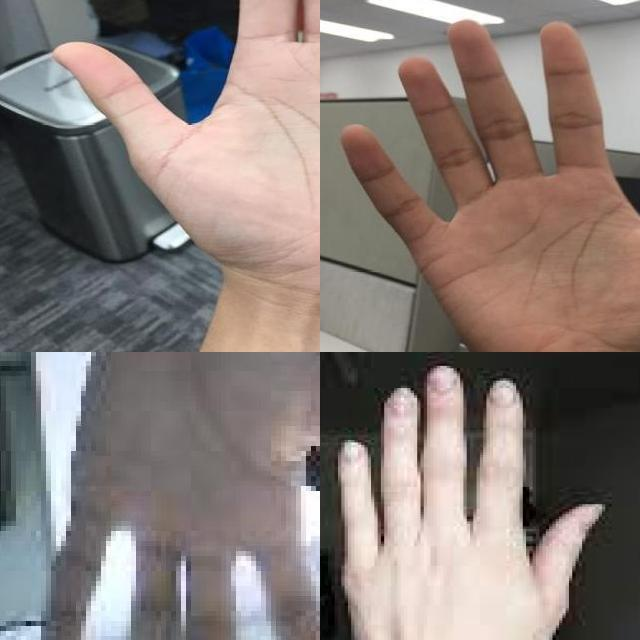no-gloves: (336, 19, 640, 352), (50, 0, 320, 332), (320, 352, 607, 640), (36, 352, 320, 640)
